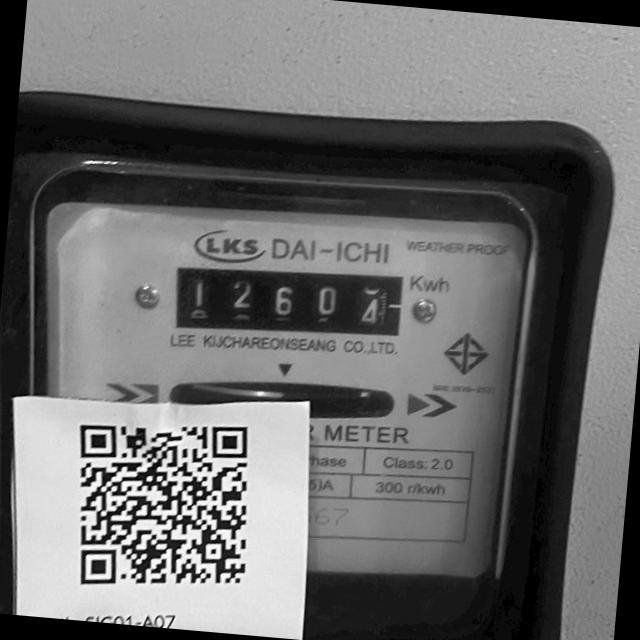qr_code: (76, 419, 252, 587)
